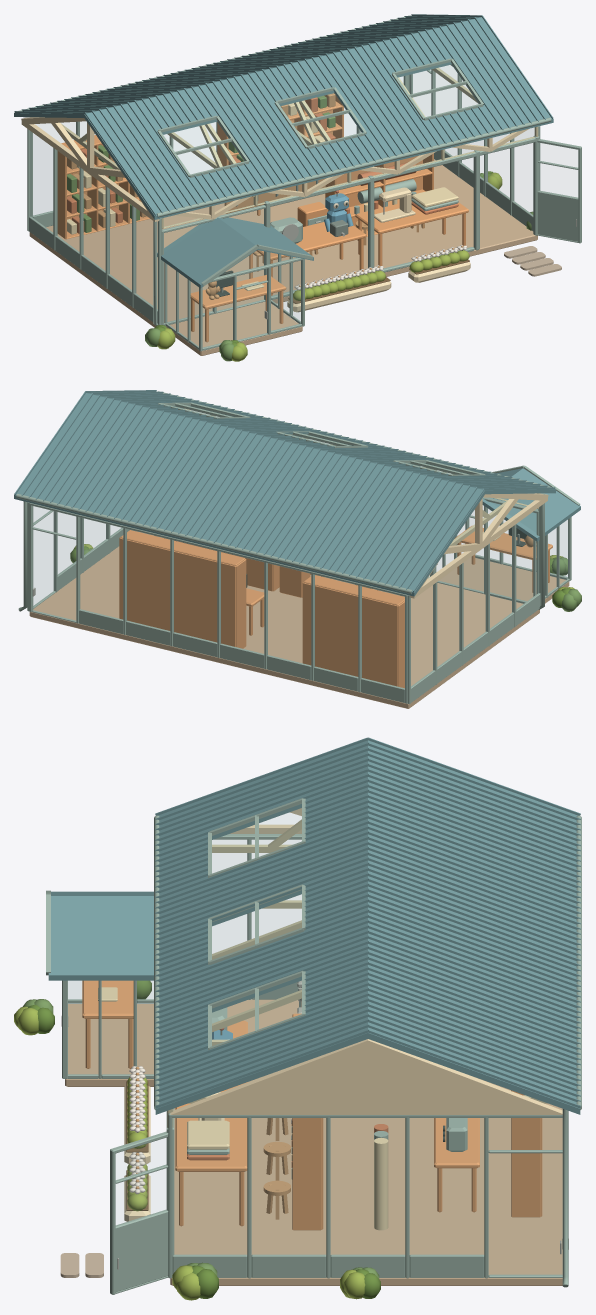
Rendered from 20-B-fcec6aefb42b.glb.
3 views of the same model, one above another, from view 1: azimuth 30°, elevation 25°; view 2: azimuth 150°, elevation 25°; view 3: azimuth 270°, elevation 25° (orthographic). The views are drawn at different scales.
Parts seen in each view (by area): view 1: R 青灰压型坡屋面, S 主车间地面, R 压型屋面凸肋, R 后屋面凸肋, A 两侧车间窗, I 工作桌, R 接待门廊低坡屋顶, A 接待玻璃门廊, I 分类小商品, S 接待门廊地面, I 格柜竖板, R 左山墙外露大桁架 (+26 smaller); view 2: R 后侧青灰坡屋面, I 货架背板, R 后屋面凸肋, S 主车间地面, A 后院工作窗, A 两侧车间窗, R 压型屋面凸肋, R 左山墙外露大桁架, S 接待门廊地面, D 屋檐排水槽, I 格柜层板, A 接待玻璃门廊 (+10 smaller); view 3: R 后屋面凸肋, S 主车间地面, R 压型屋面凸肋, R 后侧青灰坡屋面, R 青灰压型坡屋面, A 山墙三角围护, A 两侧车间窗, R 接待门廊低坡屋顶, I 工作桌, I 格柜竖板, S 接待门廊地面, L 地被与灌丛 (+17 smaller).
Part boxes in pixels (x1,y1,x2,y2): R 青灰压型坡屋面: (84,17,553,219); S 主车间地面: (29,159,537,327); R 压型屋面凸肋: (85,15,553,215); R 后屋面凸肋: (14,14,482,113); A 两侧车间窗: (27,64,540,324); I 工作桌: (190,201,468,342); R 接待门廊低坡屋顶: (157,217,313,288); A 接待玻璃门廊: (164,254,304,351); I 分类小商品: (67,93,335,234); S 接待门廊地面: (166,301,302,355); I 格柜竖板: (57,93,433,239); R 左山墙外露大桁架: (21,117,159,221); R 后侧青灰坡屋面: (14,393,485,596); I 货架背板: (120,538,398,686); R 后屋面凸肋: (14,391,484,592); S 主车间地面: (29,532,539,708); A 后院工作窗: (29,503,407,703); A 两侧车间窗: (27,502,541,704); R 压型屋面凸肋: (85,390,555,489); R 左山墙外露大桁架: (409,493,548,598); S 接待门廊地面: (439,557,569,603); D 屋檐排水槽: (16,391,551,593); I 格柜层板: (120,530,404,605); A 接待玻璃门廊: (442,517,571,598); R 后屋面凸肋: (367,737,580,1108); S 主车间地面: (170,999,562,1285); R 压型屋面凸肋: (155,737,368,1108); R 后侧青灰坡屋面: (368,740,580,1114); R 青灰压型坡屋面: (155,740,367,1114); A 山墙三角围护: (170,1039,562,1114); A 两侧车间窗: (168,834,562,1278); R 接待门廊低坡屋顶: (48,891,153,980); I 工作桌: (82,980,479,1226); I 格柜竖板: (292,1090,540,1230); S 接待门廊地面: (65,1004,153,1086); L 地被与灌丛: (14,980,380,1300).
Bounding box in the file's own units: 22.7 × 8.82 × 17.25.
